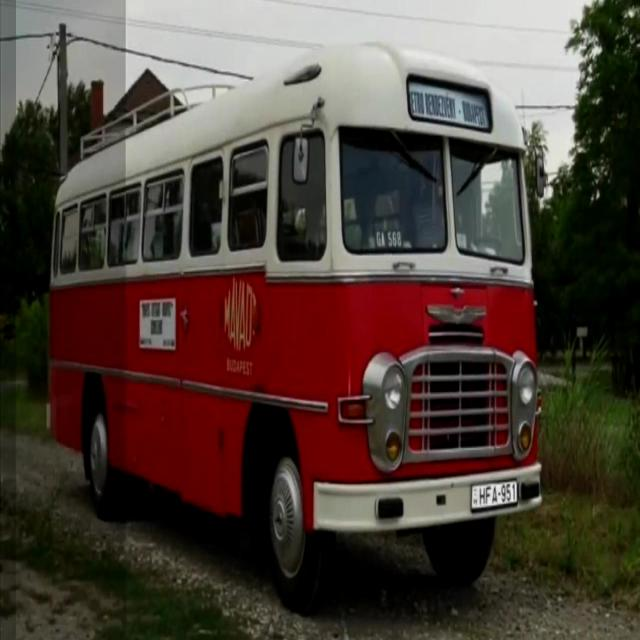bus: (46, 41, 549, 610)
